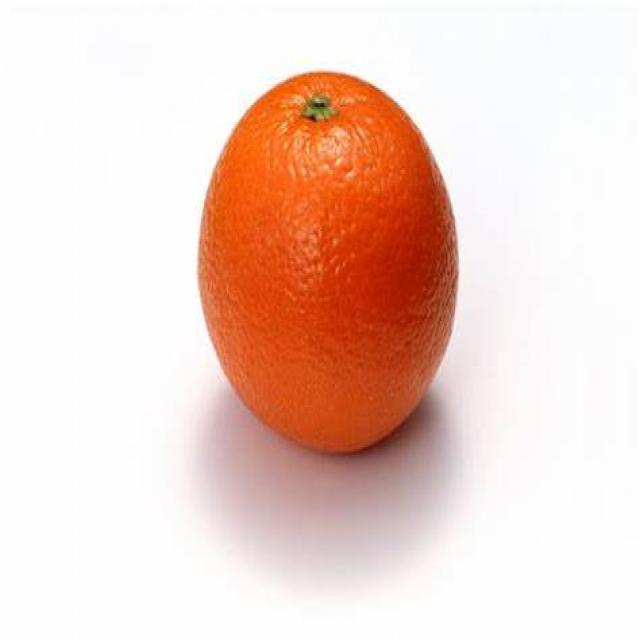Orange: (203, 66, 459, 458)
